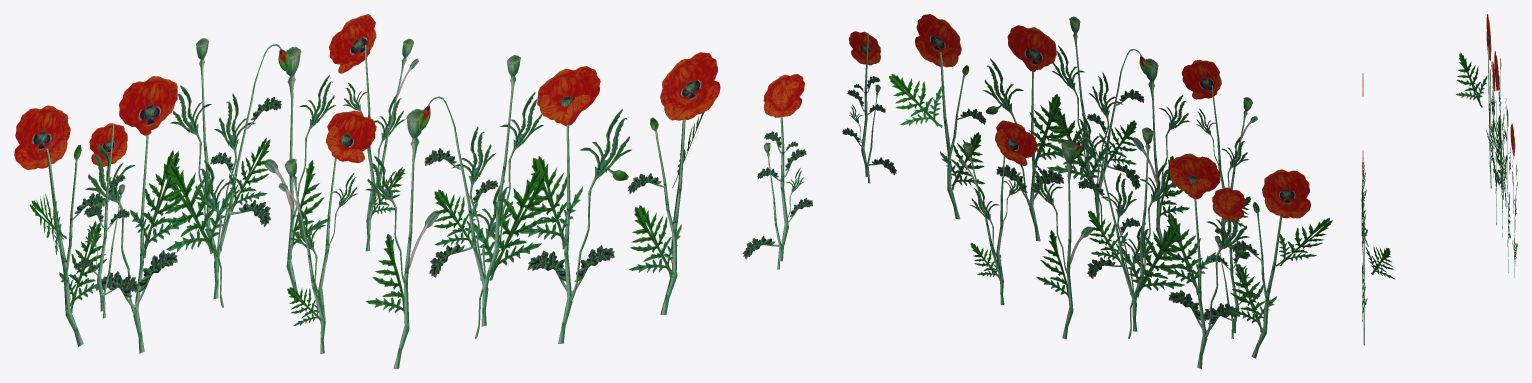
Rendered from poppies.glb.
3 renders of one model, left to right at view 1: azimuth 30°, elevation 25°; view 2: azimuth 150°, elevation 25°; view 3: azimuth 270°, elevation 25°, orthographic. The views are drawn at different scales.
Parts seen in each view (by area): view 1: POPPY_6.007; view 2: POPPY_6.007; view 3: POPPY_6.007.
Boxes of the visible parts, x1,y1,x2,y2 form: POPPY_6.007: [14, 14, 812, 368]; POPPY_6.007: [842, 14, 1332, 368]; POPPY_6.007: [1361, 14, 1517, 345].
Size of the model in its own units: 3.65 by 1.53 by 1.11.
Materials: 1 (1 with a texture image).
